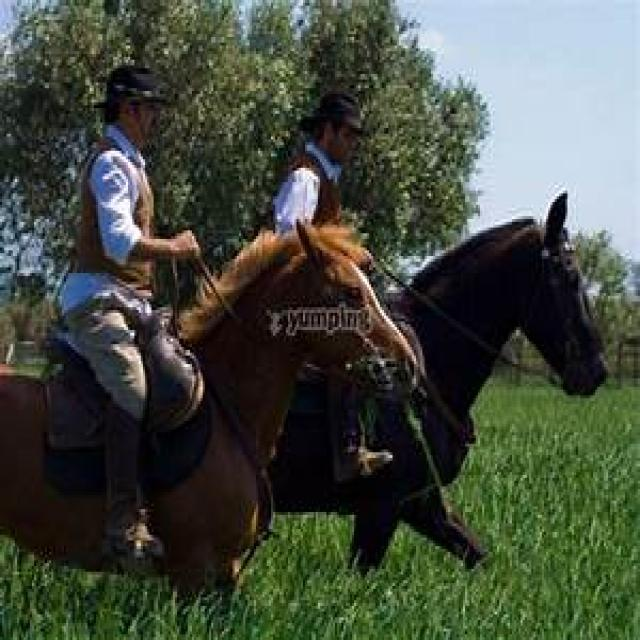animal: (3, 212, 421, 596), (376, 163, 626, 578)
